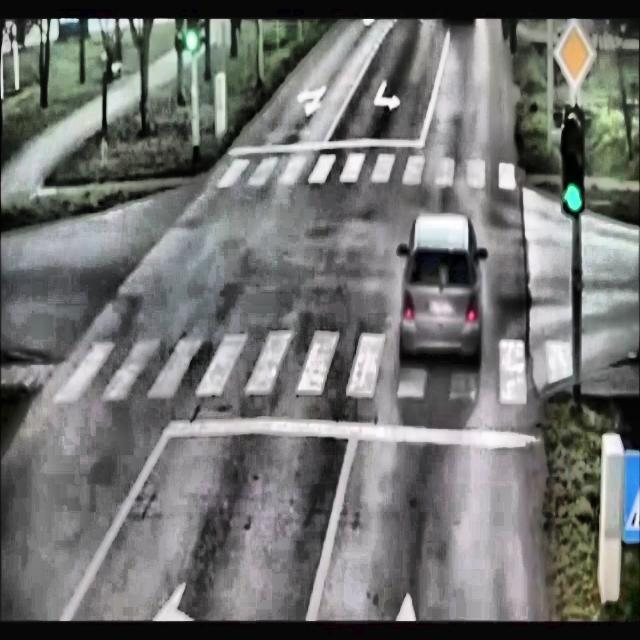green: (560, 108, 585, 214)
